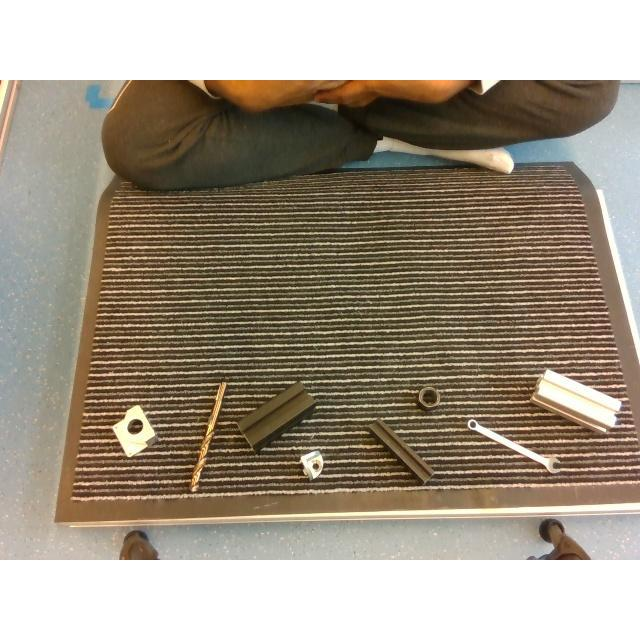Drill: (190, 382, 227, 492)
F20_20_B: (368, 420, 432, 480)
M20: (416, 386, 439, 408)
S40_40_B: (238, 382, 314, 451)
S40_40_G: (531, 369, 621, 431)
